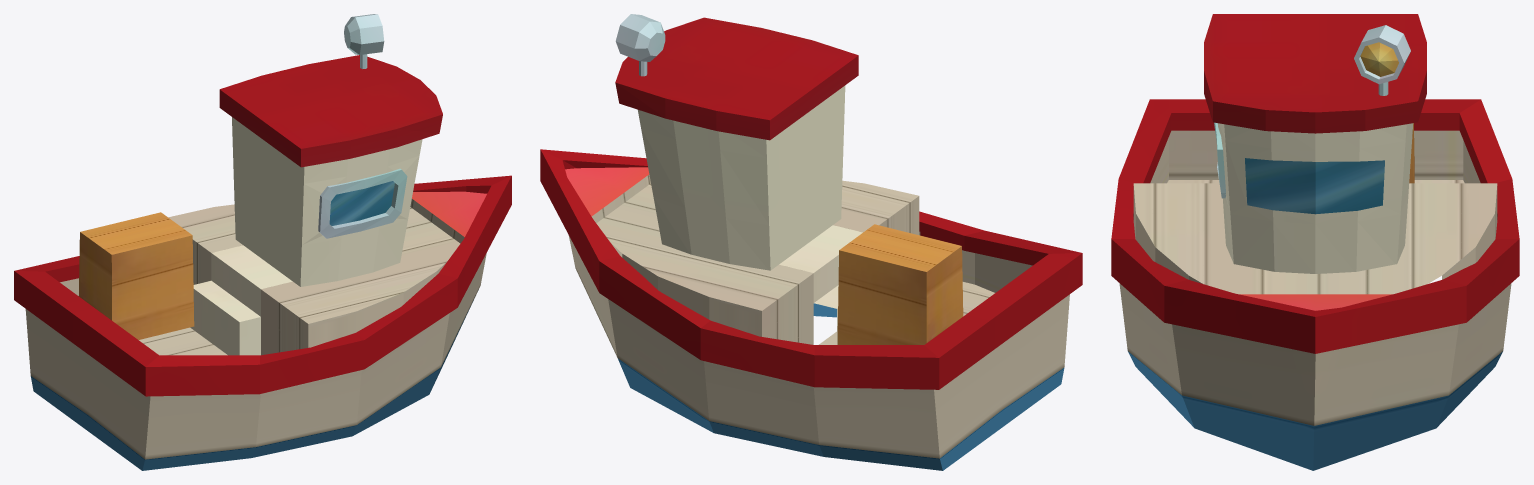
The model's file is B_Boat.fbx.
3 renders of one model, left to right at view 1: azimuth 30°, elevation 25°; view 2: azimuth 150°, elevation 25°; view 3: azimuth 270°, elevation 25°, orthographic. The views are drawn at different scales.
Parts seen in each view (by area): view 1: B_Boat2; view 2: B_Boat2; view 3: B_Boat2.
Part boxes in pixels (x1,y1,x2,y2): B_Boat2: (14,14,511,470); B_Boat2: (540,14,1082,470); B_Boat2: (1111,14,1519,470).
Bounding box in the file's own units: 396 × 282 × 257.
